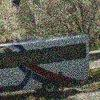buses: (0, 37, 96, 97)
